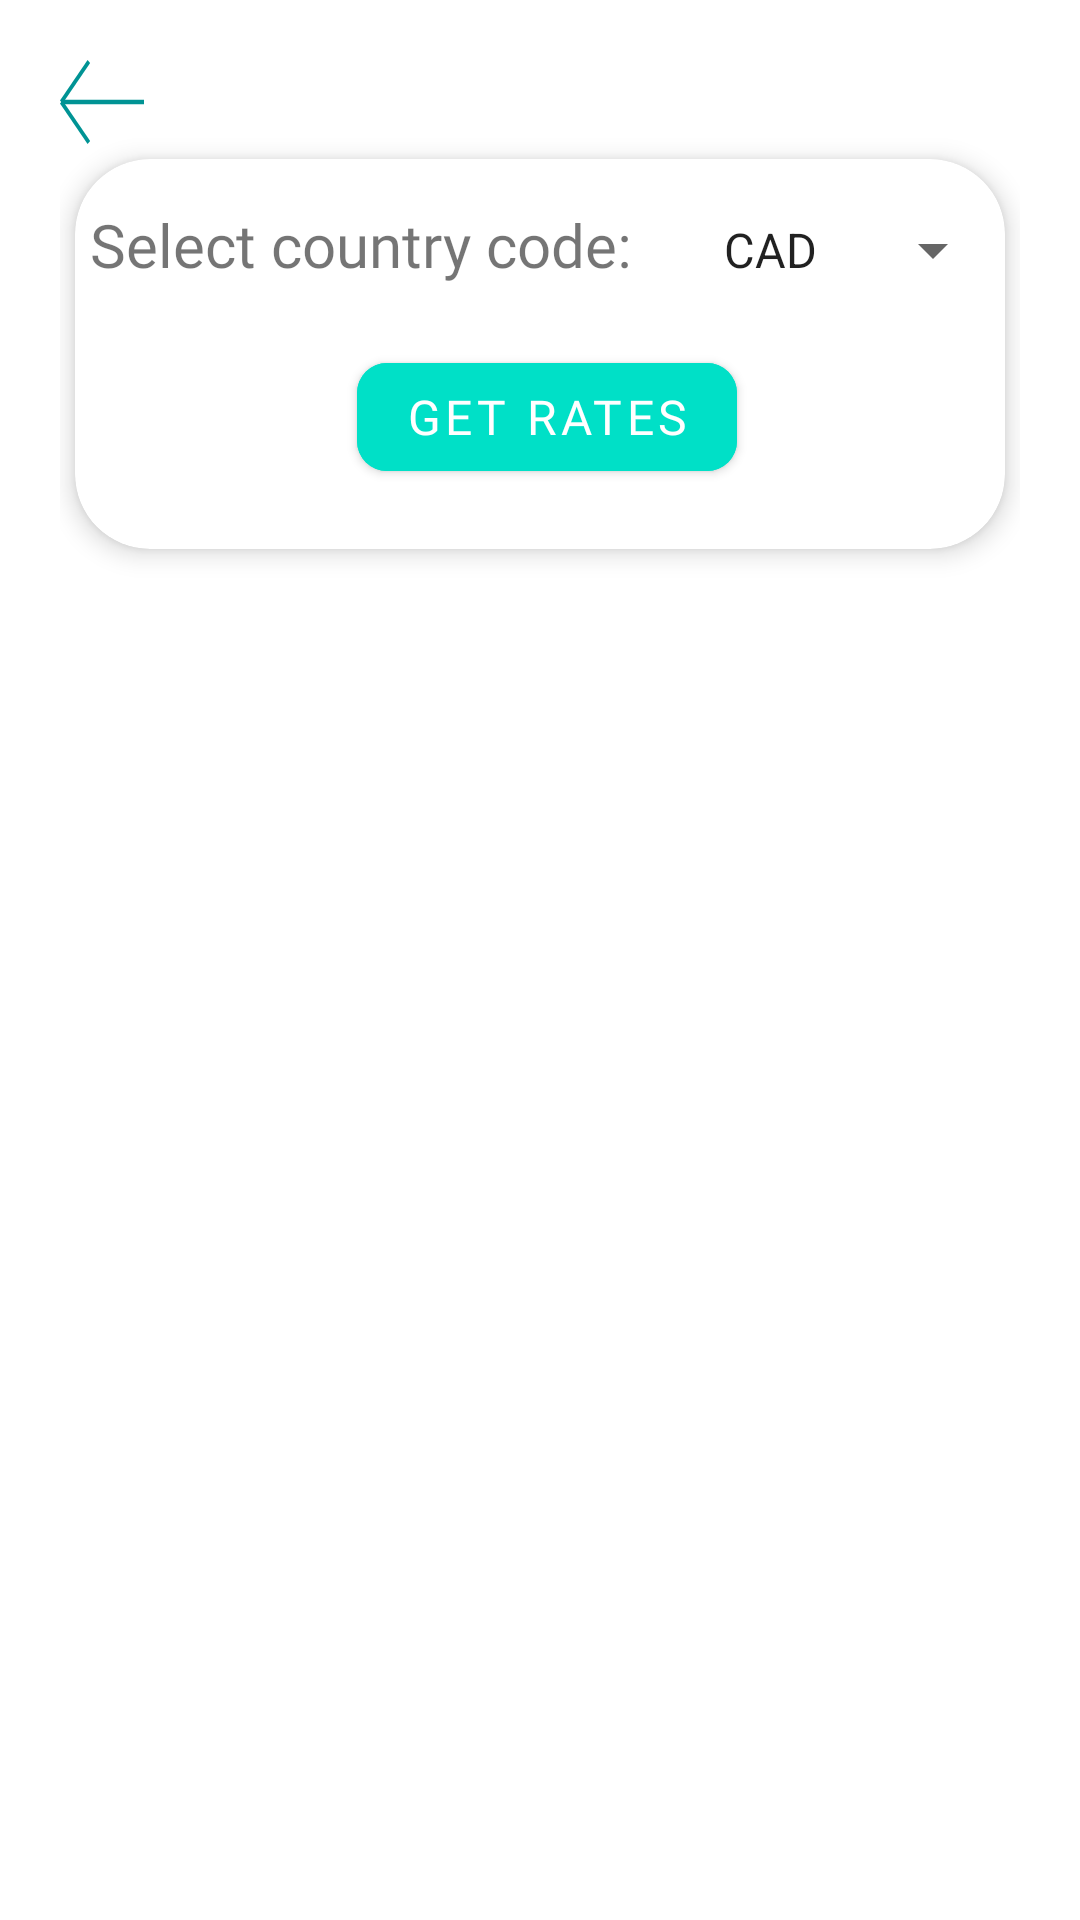

Screen size 1080px×1920px. Icon name, then its box in pixels as (x1, y1, x2, y2):
backbutton: (60, 60, 144, 144)
